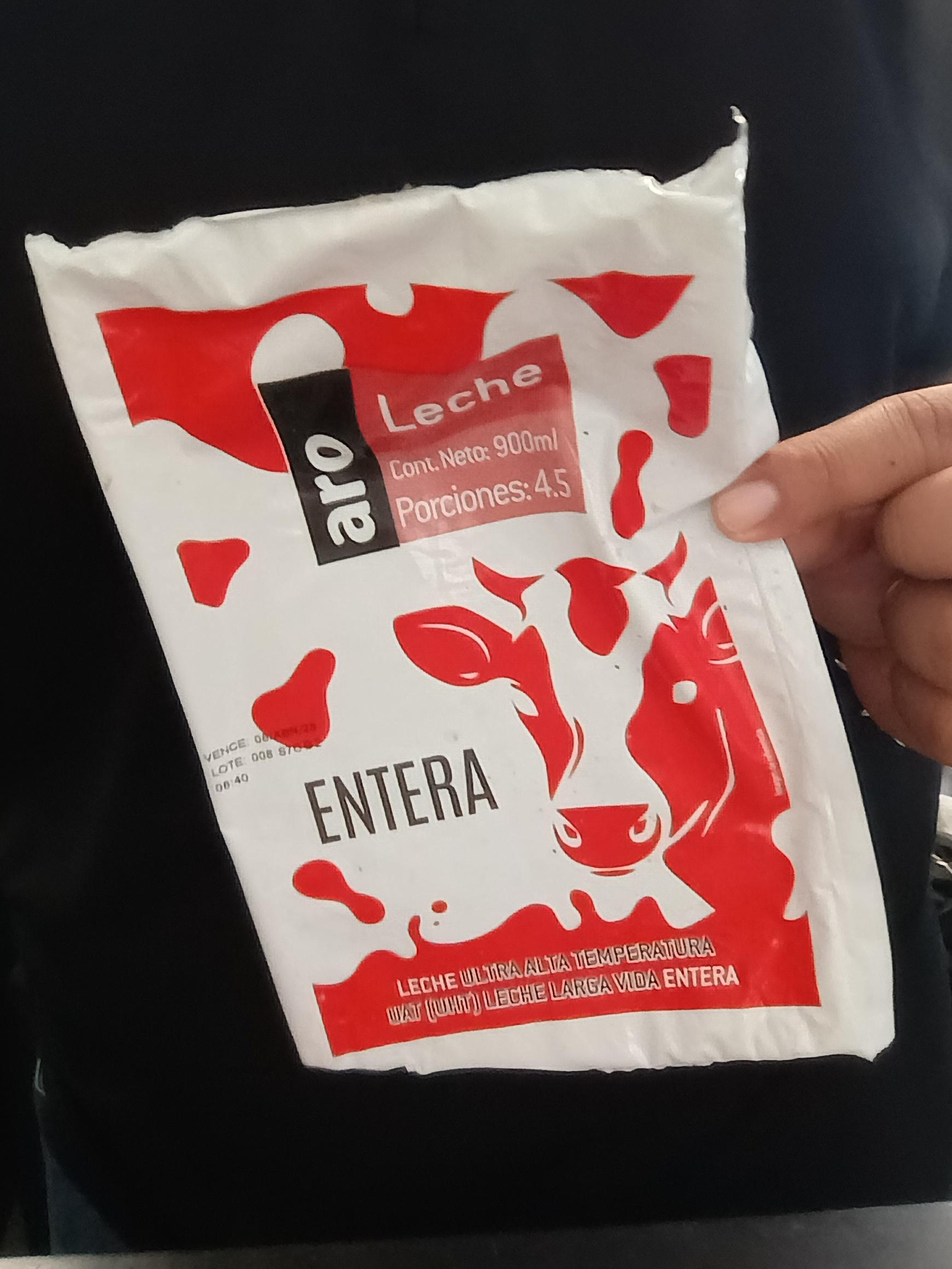Ordinario: (18, 106, 898, 1071)
